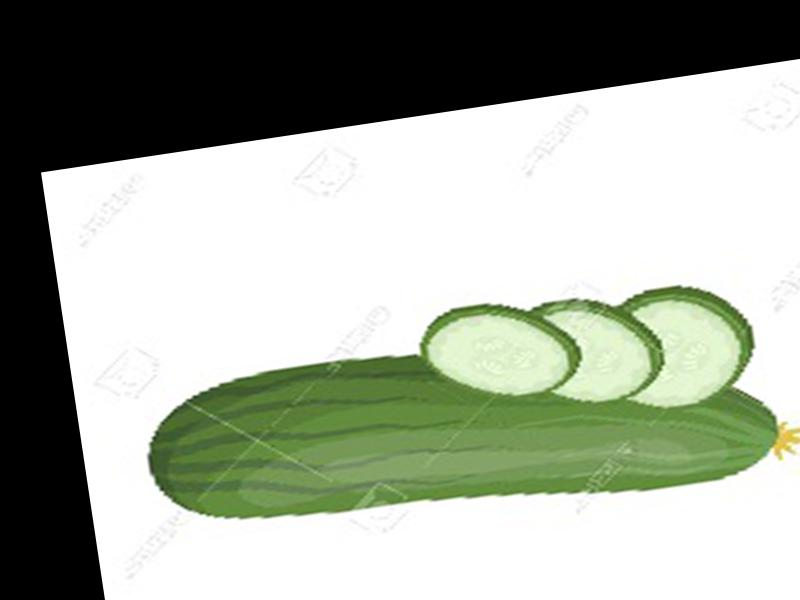Cucumber: (133, 291, 800, 563)
